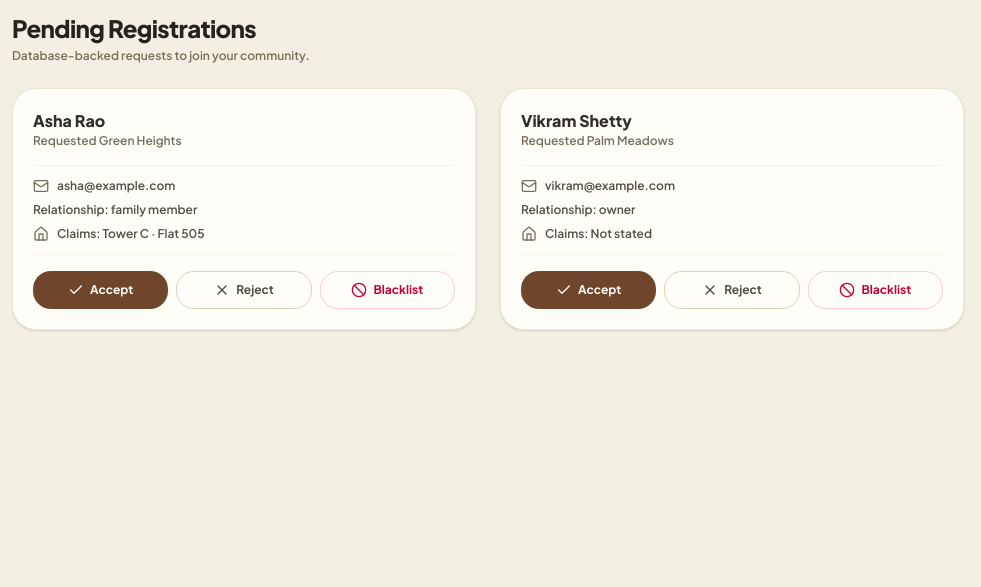
Test: inline approval panel › surfaces the backend refusal through the alert line
The width and height of the screenshot is (981, 587).
Expected: the heading "Asha Rao" is shown, top-left (33, 110), bottom-right (105, 131)
Click the button "Accept" below "Tower C · Flat 505" at [101, 290], box top-left (33, 271), bottom-right (168, 309)
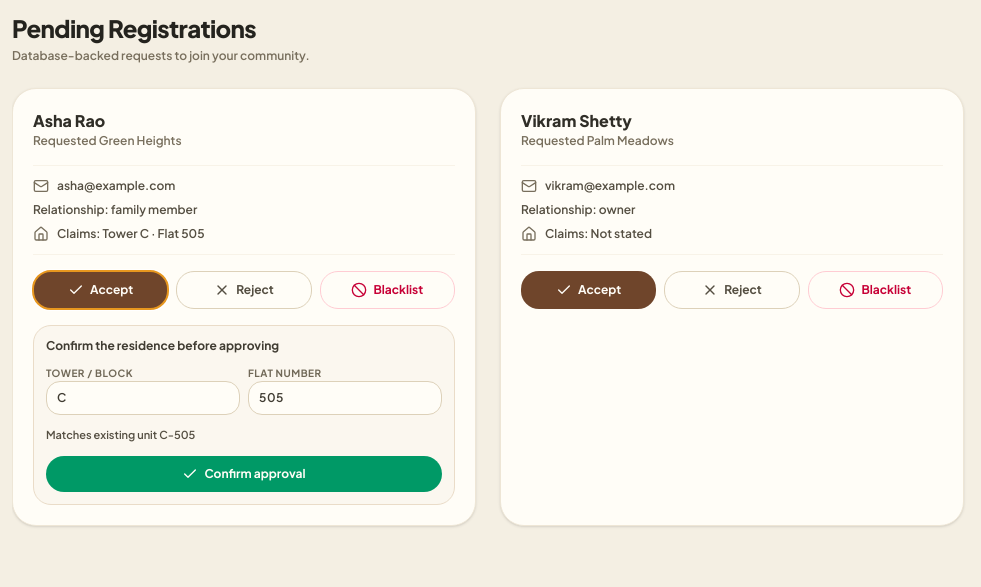
Click the button "Confirm approval" at [244, 474], box top-left (46, 456), bottom-right (442, 492)
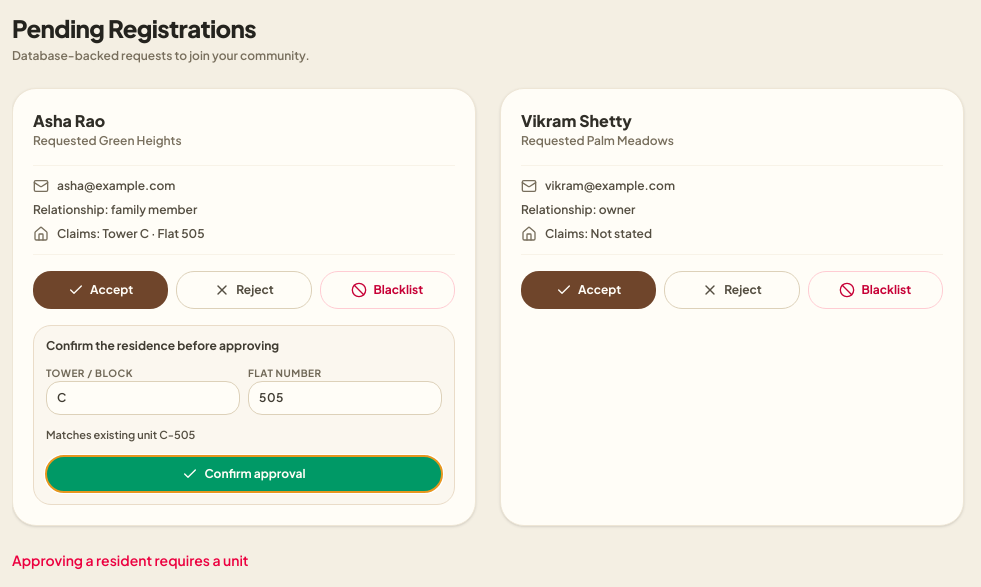
Now the message reads "Approving a resident requires a unit", box top-left (12, 550), bottom-right (248, 568)
